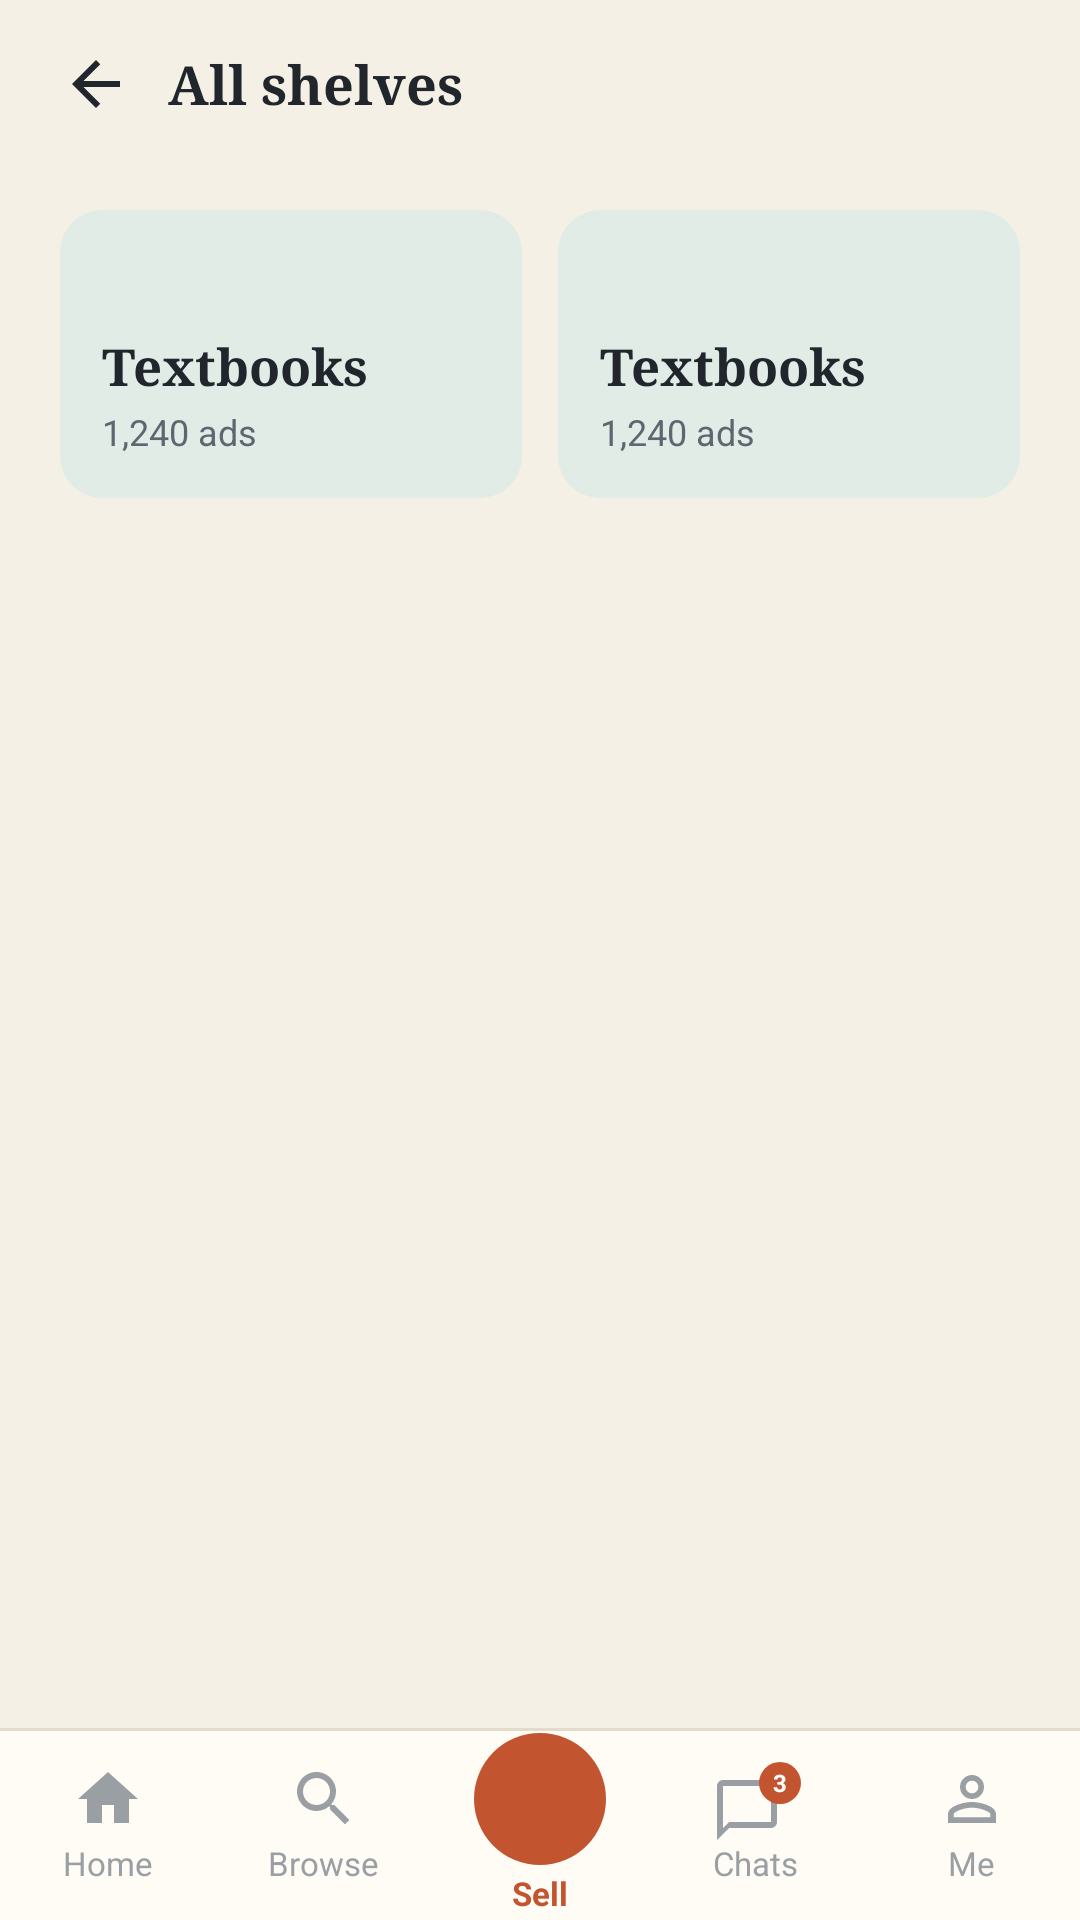

Icon bounding boxes for this 1080 × 1920 phone screenshot, format (x1, y1, x2, y2):
Back: (72, 60, 120, 108)
person: (948, 1775, 996, 1823)
search: (297, 1772, 349, 1824)
